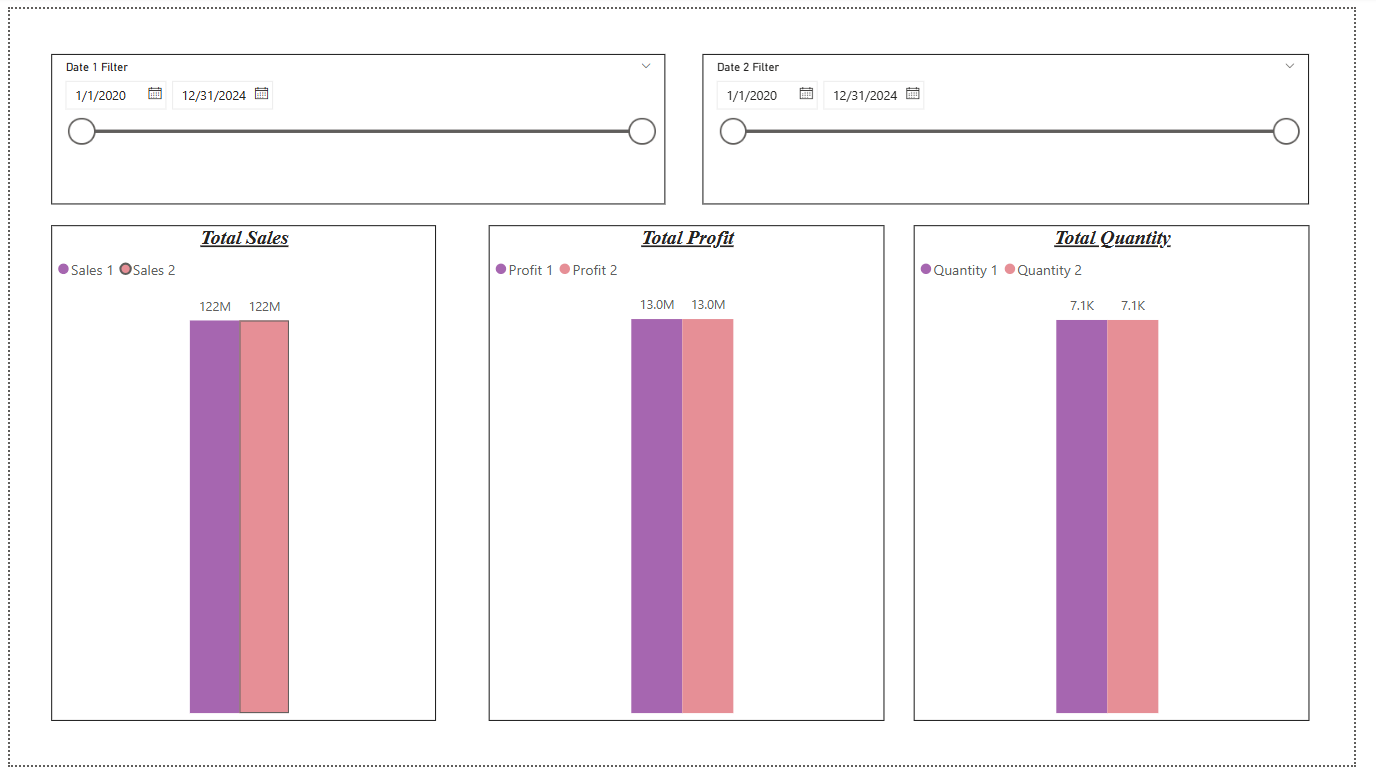

Layout of this report page (visuals, bound fields, positions):
{"tool":"powerbi","page":{"name":"Comparsion Sales/Profit/Qunatity","canvas":[1280,720],"ordinal":2},"visuals":[{"type":"slicer","fields":{"Values":["Data Table 1.Date"]},"box":[39.5,43,584.9,143],"z":0},{"type":"slicer","fields":{"Values":["Date Table 2.Date"]},"box":[659.3,43,577.9,143],"z":1000},{"type":"clusteredColumnChart","title":"Total Sales ","fields":{"Y":["Sum(fact table.net sales)","Data Table 1.Sum of Net Sales"]},"box":[39.5,205.8,366.3,472.1],"z":2000},{"type":"clusteredColumnChart","title":"Total Profit","fields":{"Y":["Sum(fact table.profit)","Measures Table.Total Profit"]},"box":[455.8,205.8,376.7,472.1],"z":3000},{"type":"clusteredColumnChart","title":"Total Quantity","fields":{"Y":["Sum(fact table.Units Sold)","Measures Table.Total Quantity"]},"box":[860.5,205.8,376.7,472.1],"z":4000}]}

Visuals, with their boxes in screenshot pixels (x1, y1, x2, y2), scaled from the page's 1280x720 canvas onto the 1376x776 screenshot:
slicer - Data Table 1.Date: x1=42, y1=46, x2=671, y2=200
slicer - Date Table 2.Date: x1=709, y1=46, x2=1330, y2=200
"Total Sales " clusteredColumnChart: x1=42, y1=222, x2=436, y2=731
"Total Profit" clusteredColumnChart: x1=490, y1=222, x2=895, y2=731
"Total Quantity" clusteredColumnChart: x1=925, y1=222, x2=1330, y2=731
